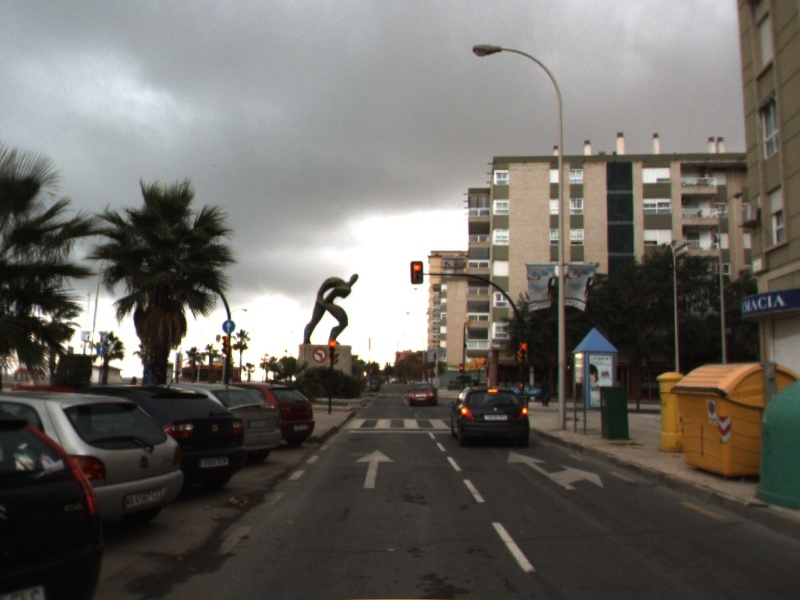STRAIGHT: (354, 448, 397, 490)
STRAIGHT_RIGHT: (506, 449, 605, 491)
